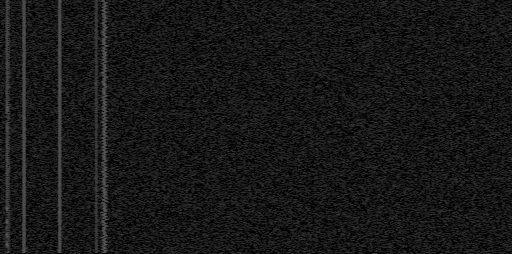wv_am: (21, 0, 27, 253), (4, 0, 10, 253), (94, 0, 99, 253)
wv_cw: (57, 0, 63, 253), (6, 0, 11, 253)
wv_lsb: (6, 5, 11, 28), (7, 134, 11, 152), (7, 118, 10, 124), (7, 156, 11, 160), (7, 47, 11, 50), (7, 38, 10, 42), (7, 184, 11, 187), (7, 172, 11, 175), (7, 165, 10, 169), (7, 43, 10, 46), (7, 57, 10, 60), (7, 51, 10, 54)
wv_wbfm: (99, 0, 110, 253)
